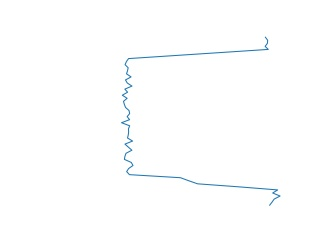distributaryChannelFill: (116, 36, 288, 207)
